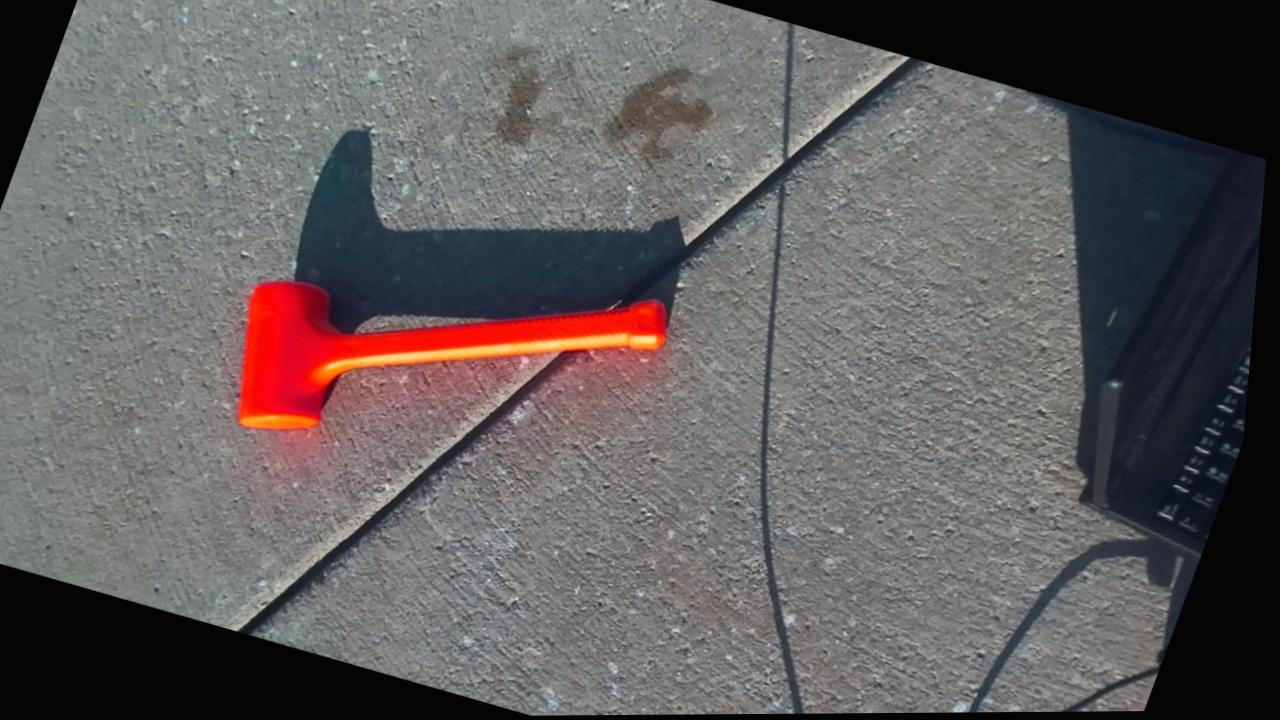mallet: (239, 281, 665, 428)
